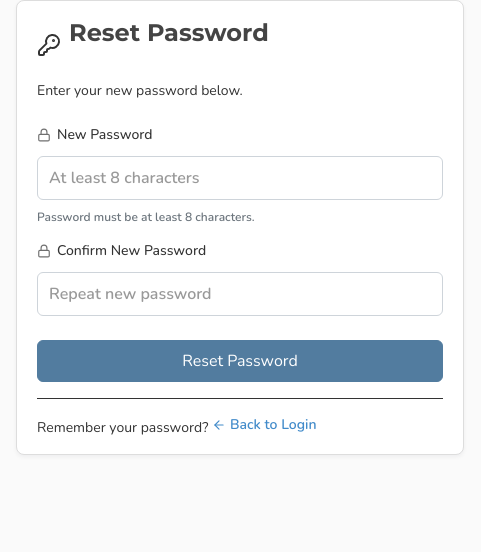
Test: app/reset-password/page › displays error message when password reset fails
The image size is (481, 552).
Type "newPassword123!" into the password field with placeholder "at least 8 characters" at [240, 178], box left=37, top=156, right=443, bottom=200
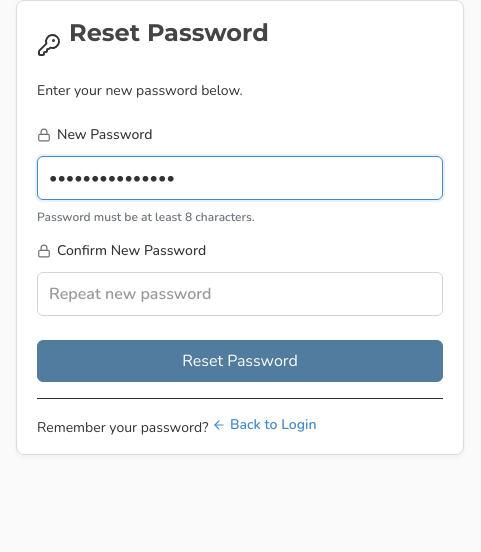
Type "newPassword123!" into the password field with placeholder "Repeat new password" at [240, 294], box left=37, top=272, right=443, bottom=316
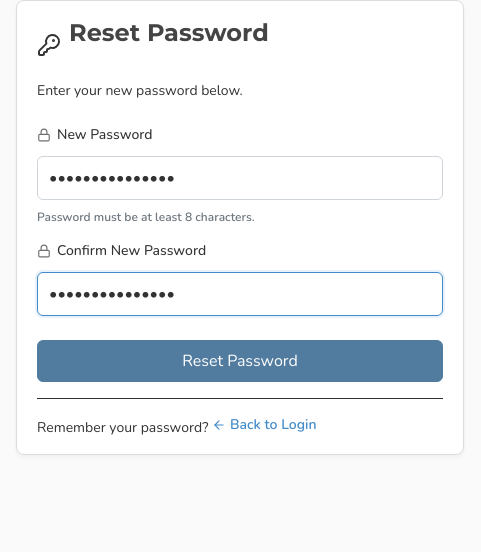
Click the button "Reset Password" at [240, 361], box left=37, top=340, right=443, bottom=382
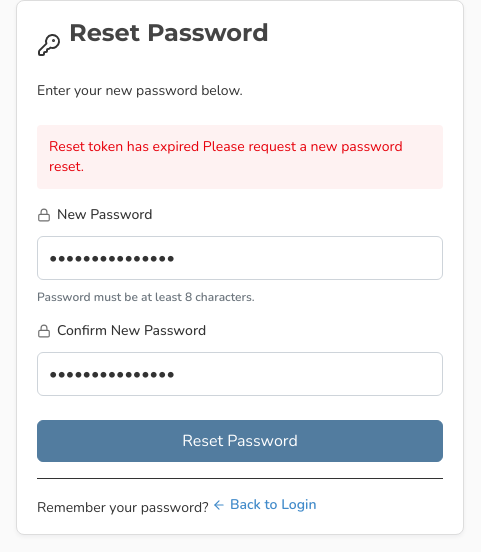
Expected: the text "Reset token has expired Please request a new password reset." is shown, left=37, top=125, right=443, bottom=189
